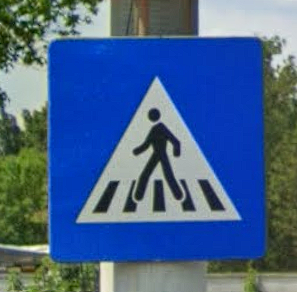trecere_pietoni: (43, 35, 269, 263)
